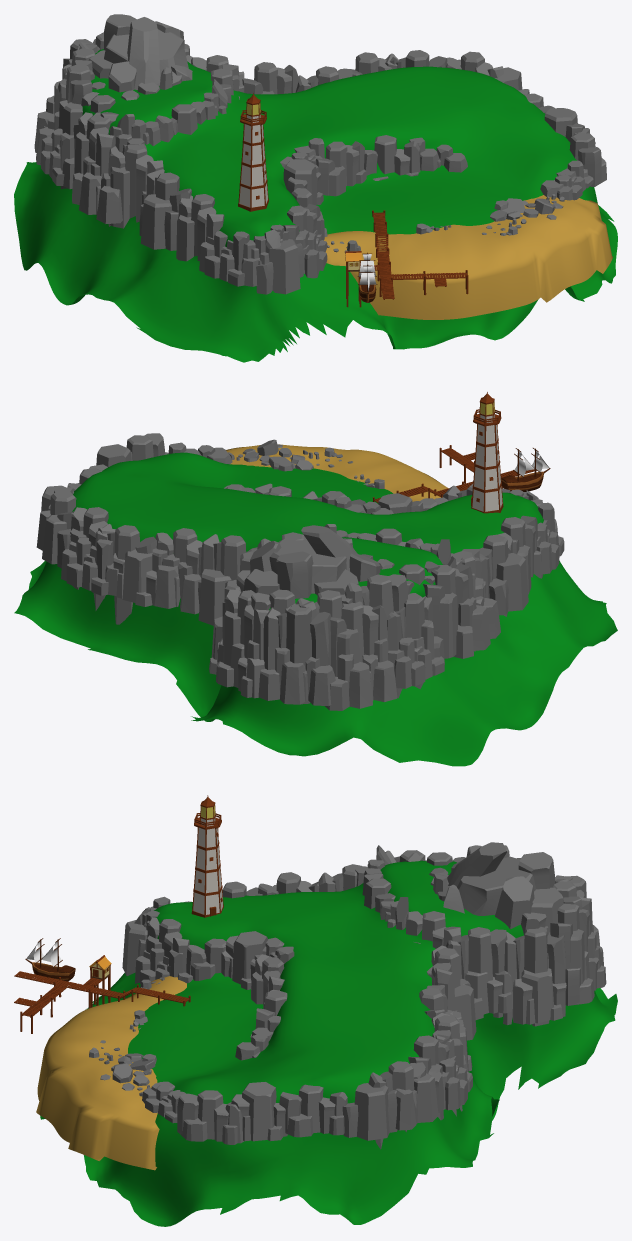
The model's file is island_threeset2.fbx.
The picture shows the model from 3 angles, top to bottom: view 1: azimuth 30°, elevation 25°; view 2: azimuth 150°, elevation 25°; view 3: azimuth 270°, elevation 25°; orthographic projection. The views are drawn at different scales.
Parts seen in each view (by area): view 1: pPlane1, pSphere8, rock, lighthouse5, rock_cliff80, rock_cliff92, rock_cliff91, rock_cliff87, rock_cliff99, rock_cliff94, rock_cliff79, rock_cliff100 (+29 smaller); view 2: pPlane1, rock, pSphere8, rock_cliff72, rock_cliff73, rock_cliff74, rock_cliff75, lighthouse5, rock_cliff79, rock_cliff65, rock_cliff86, rock_cliff71 (+29 smaller); view 3: pPlane1, pSphere8, rock, rock_cliff60, lighthouse5, rock_cliff76, rock_cliff62, rock_cliff63, rock_cliff78, rock_cliff61, rock_cliff82, rock_cliff71 (+27 smaller).
Part boxes in pixels (x1,y1,x2,y2): pPlane1: (14, 49, 617, 362); pSphere8: (324, 195, 612, 319); rock: (88, 14, 564, 253); lighthouse5: (238, 93, 268, 211); rock_cliff80: (108, 144, 163, 228); rock_cliff92: (199, 231, 259, 286); rock_cliff91: (176, 194, 224, 261); rock_cliff87: (72, 156, 122, 223); rock_cliff99: (315, 141, 366, 196); rock_cliff94: (256, 239, 303, 294); rock_cliff79: (74, 112, 115, 215); rock_cliff100: (364, 135, 420, 180); pPlane1: (14, 452, 617, 766); rock: (228, 439, 528, 598); pSphere8: (226, 444, 447, 501); rock_cliff72: (263, 604, 331, 704); rock_cliff73: (258, 647, 335, 706); rock_cliff74: (330, 601, 388, 676); rock_cliff75: (325, 654, 397, 710); lighthouse5: (471, 392, 503, 513); rock_cliff79: (423, 563, 476, 658); rock_cliff65: (61, 537, 118, 595); rock_cliff86: (388, 619, 444, 688); rock_cliff71: (222, 589, 269, 665); pPlane1: (40, 860, 617, 1226); pSphere8: (36, 976, 186, 1170); rock: (89, 842, 554, 1096); rock_cliff60: (177, 1090, 243, 1144); lighthouse5: (191, 795, 223, 917); rock_cliff76: (503, 927, 565, 1026); rock_cliff62: (279, 1084, 347, 1137); rock_cliff63: (342, 1083, 397, 1140); rock_cliff78: (512, 968, 566, 1024); rock_cliff61: (231, 1082, 287, 1141); rock_cliff82: (446, 927, 507, 1017); rock_cliff71: (550, 900, 596, 984).
Size of the model in its own units: 30121 by 14529 by 30578.
